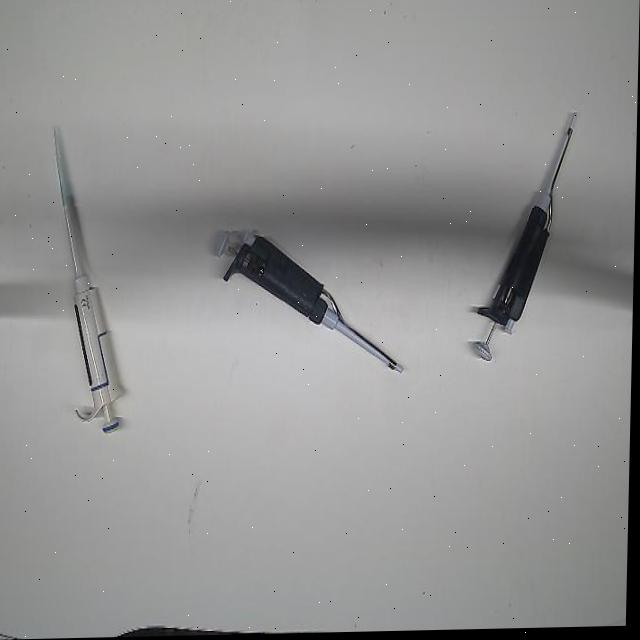Single Channel Pipettor: (42, 120, 141, 445), (215, 220, 411, 379), (473, 111, 583, 371)
